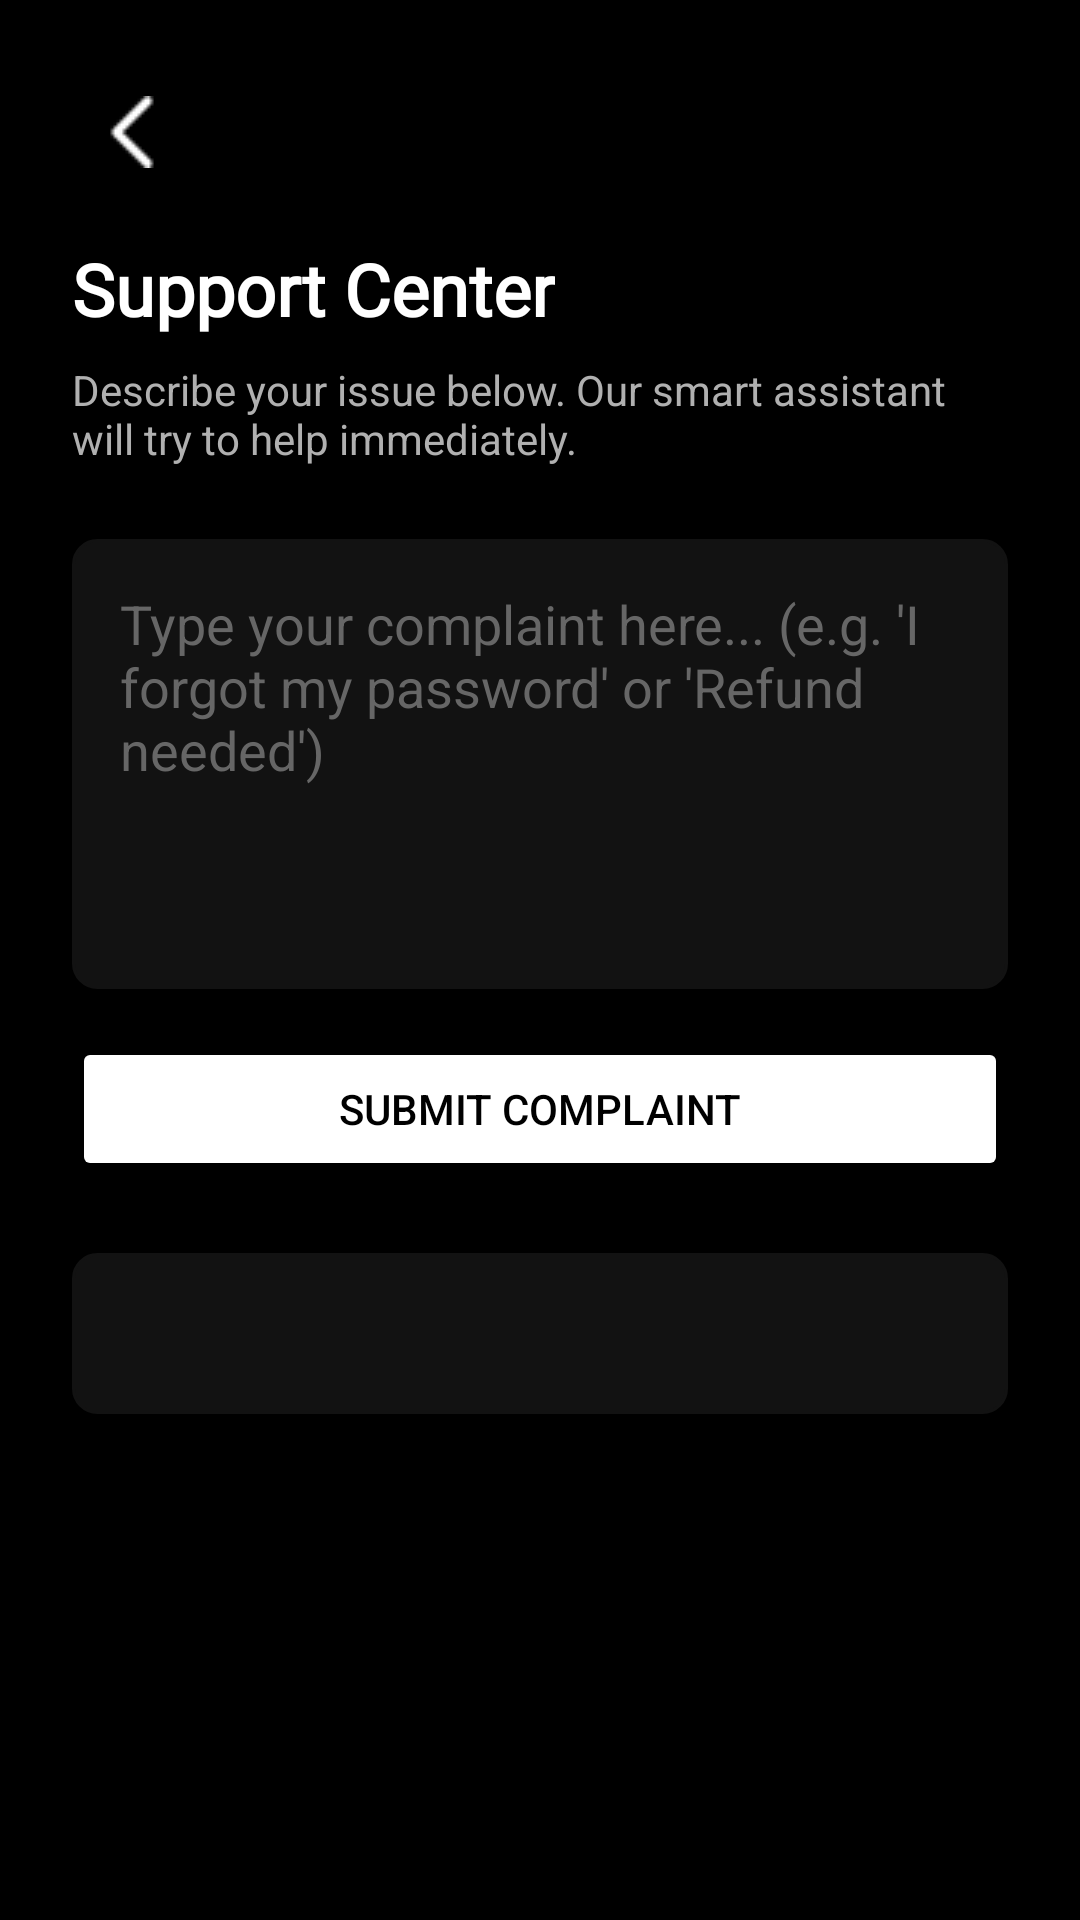

Icons on this 1080 x 1920 Android screen, each with its box as (x1, y1, x2, y2):
back arrow: (110, 96, 154, 168)
